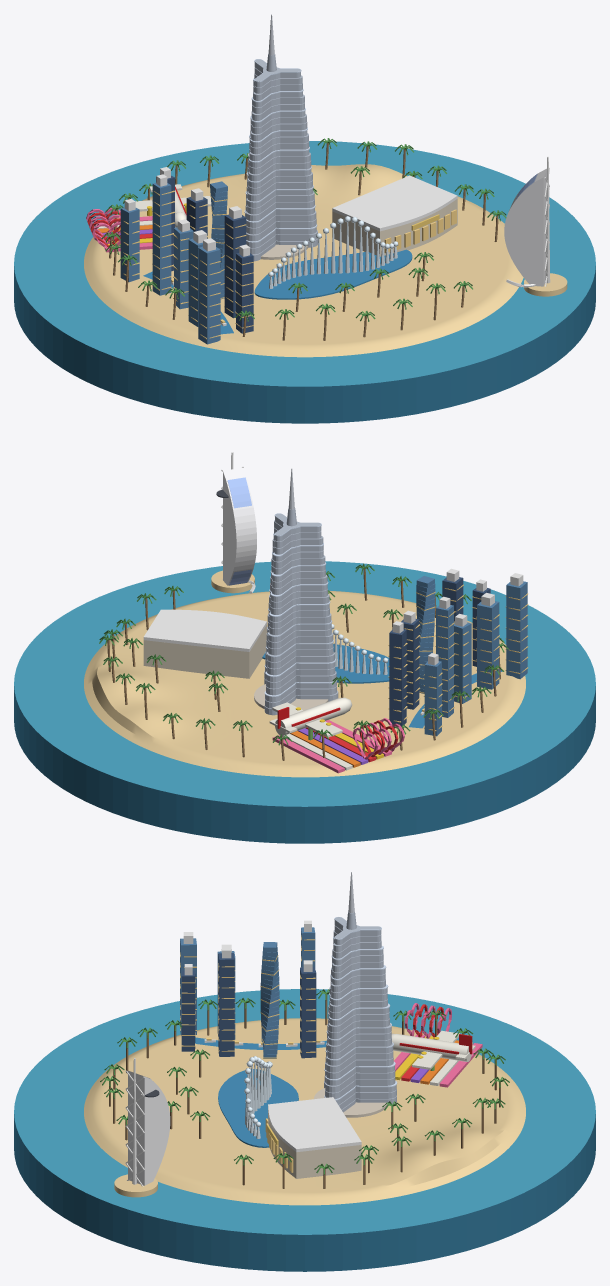
Rendered from dubai.glb.
3 views of the same model, one above another, from view 1: azimuth 30°, elevation 25°; view 2: azimuth 150°, elevation 25°; view 3: azimuth 270°, elevation 25° (orthographic).
Parts seen in each view (by area): view 1: DECO-base, DECO-island, DECO-palms, dm-roof, ba-sail, DECO-burj-lake, fountain-jets, mt-6, dm-body, mt-0, mt-3, mt-8 (+6 smaller); view 2: DECO-base, DECO-island, DECO-palms, dm-roof, dm-body, ba-sail, mt-0, mt-2, mt-9, mt-6, DECO-burj-lake, mt-4 (+12 smaller); view 3: DECO-base, DECO-island, DECO-palms, dm-roof, ba-sail, DECO-burj-lake, dm-body, mt-3, fountain-jets, mt-7, mt-1, mg-a380-fuselage (+7 smaller).
Boxes of the visible parts, <box> form: DECO-base: <box>14,141,595,423</box>; DECO-island: <box>84,164,523,357</box>; DECO-palms: <box>101,138,506,340</box>; dm-roof: <box>332,175,457,231</box>; ba-sail: <box>504,168,546,286</box>; DECO-burj-lake: <box>254,249,412,299</box>; fountain-jets: <box>268,216,398,288</box>; mt-6: <box>152,183,171,295</box>; dm-body: <box>332,199,457,256</box>; mt-0: <box>198,246,220,344</box>; mt-3: <box>224,214,246,318</box>; mt-8: <box>120,207,139,282</box>; DECO-base: <box>14,561,595,843</box>; DECO-island: <box>84,590,525,777</box>; DECO-palms: <box>99,563,508,760</box>; dm-roof: <box>143,609,266,651</box>; dm-body: <box>143,625,266,678</box>; ba-sail: <box>223,468,256,585</box>; mt-0: <box>506,581,527,679</box>; mt-2: <box>477,601,499,689</box>; mt-9: <box>389,629,406,726</box>; mt-6: <box>436,605,453,717</box>; DECO-burj-lake: <box>262,644,389,683</box>; mt-4: <box>454,622,471,703</box>; DECO-base: <box>14,989,595,1271</box>; DECO-island: <box>84,1018,525,1205</box>; DECO-palms: <box>100,989,509,1188</box>; dm-roof: <box>268,1097,361,1152</box>; ba-sail: <box>128,1070,170,1185</box>; DECO-burj-lake: <box>218,1069,298,1147</box>; dm-body: <box>268,1109,361,1178</box>; mt-3: <box>218,953,234,1056</box>; fountain-jets: <box>244,1056,272,1138</box>; mt-7: <box>300,966,316,1058</box>; mt-1: <box>181,970,195,1051</box>; mg-a380-fuselage: <box>392,1033,471,1061</box>.
Bounding box in the file's own units: 2 × 1.03 × 2.
